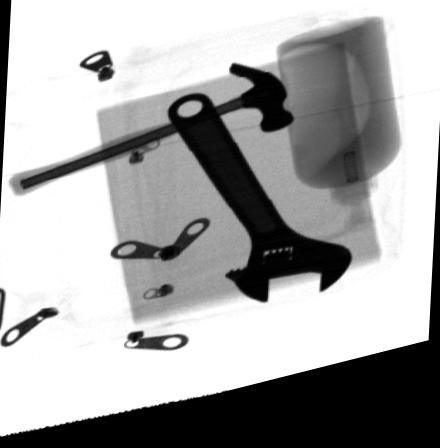Hammer: (7, 75, 294, 197)
Wrench: (166, 103, 354, 317)
